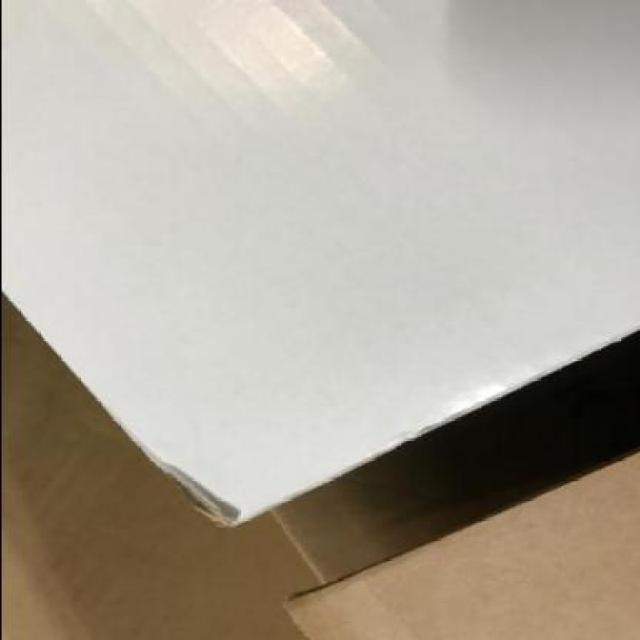CARDBOARD: (3, 0, 640, 526), (0, 297, 321, 639), (283, 462, 640, 640)
